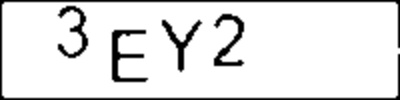2: (209, 7, 250, 70)
3: (54, 4, 91, 58)
E: (107, 26, 153, 85)
Y: (158, 15, 205, 75)
